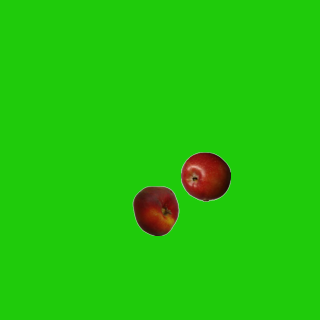Apple Braeburn: (180, 151, 230, 201)
Nectarine Flat: (130, 185, 180, 235)
